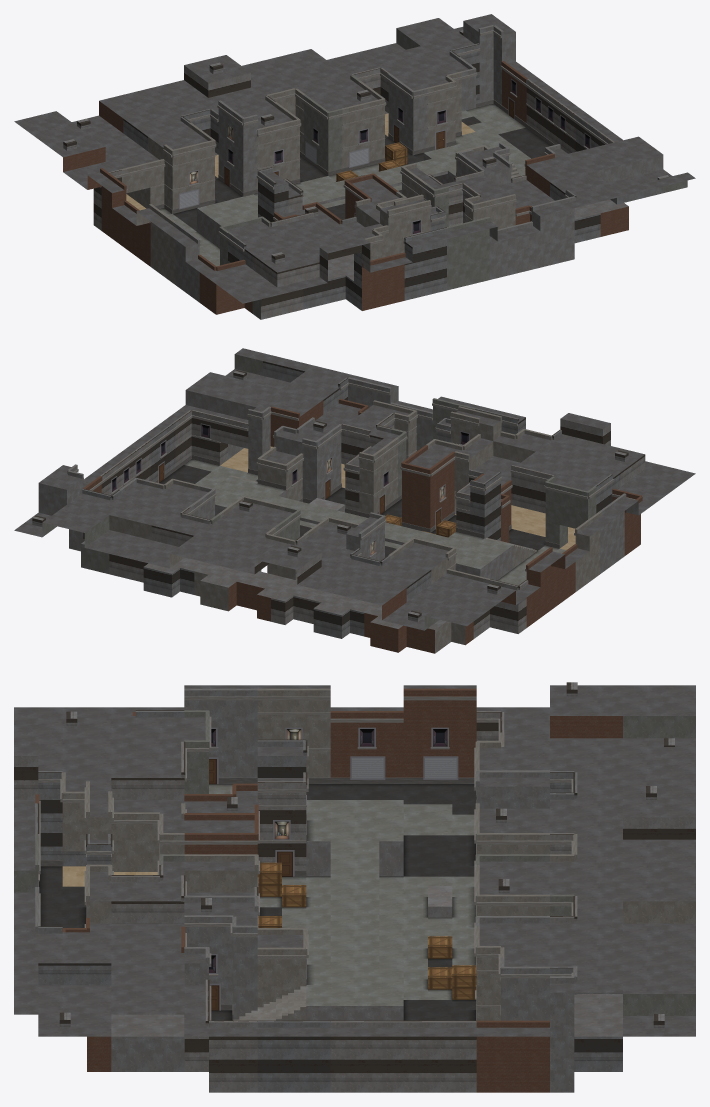
The model's file is cell.gltf.
The picture shows the model from 3 angles, top to bottom: view 1: azimuth 30°, elevation 25°; view 2: azimuth 150°, elevation 25°; view 3: azimuth 270°, elevation 25°; orthographic projection. The views are drawn at different scales.
Visible parts, largest first — view 1: Quarter, Detail, Windows, Shadows; view 2: Quarter, Detail, Windows, Shadows; view 3: Quarter, Detail, Shadows, Windows, Steps.
Boxes of the visible parts, x1,y1,x2,y2 form: Quarter: (14, 14, 695, 319); Detail: (63, 25, 669, 314); Windows: (188, 78, 590, 235); Shadows: (159, 104, 550, 249); Quarter: (14, 348, 695, 653); Detail: (32, 370, 642, 621); Windows: (111, 423, 469, 557); Shadows: (160, 459, 558, 580); Quarter: (14, 685, 695, 1092); Detail: (35, 682, 674, 1091); Shadows: (39, 784, 475, 1020); Windows: (38, 727, 476, 999); Steps: (233, 986, 306, 1020).
Size of the model in its own units: 64 by 10.9 by 56.
Materials: 23 (22 with a texture image).
